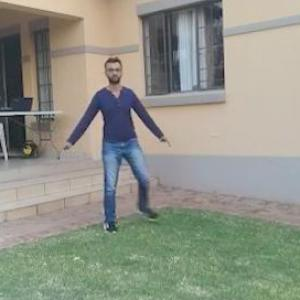land: (66, 68, 162, 221)
